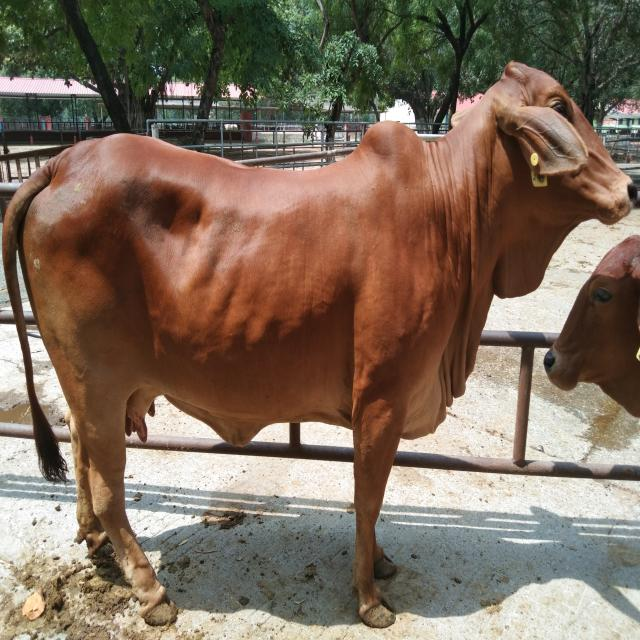cow: (1, 60, 638, 630)
hump: (359, 119, 422, 159)
